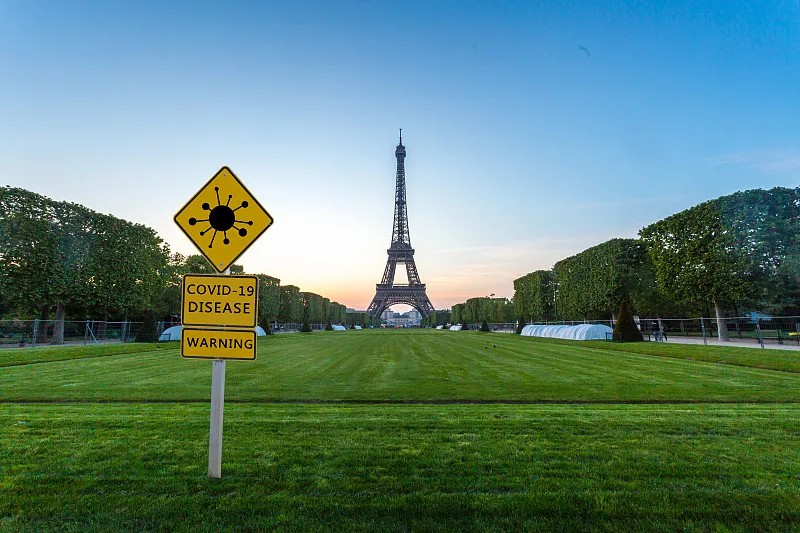Eiffel: (365, 129, 435, 328)
